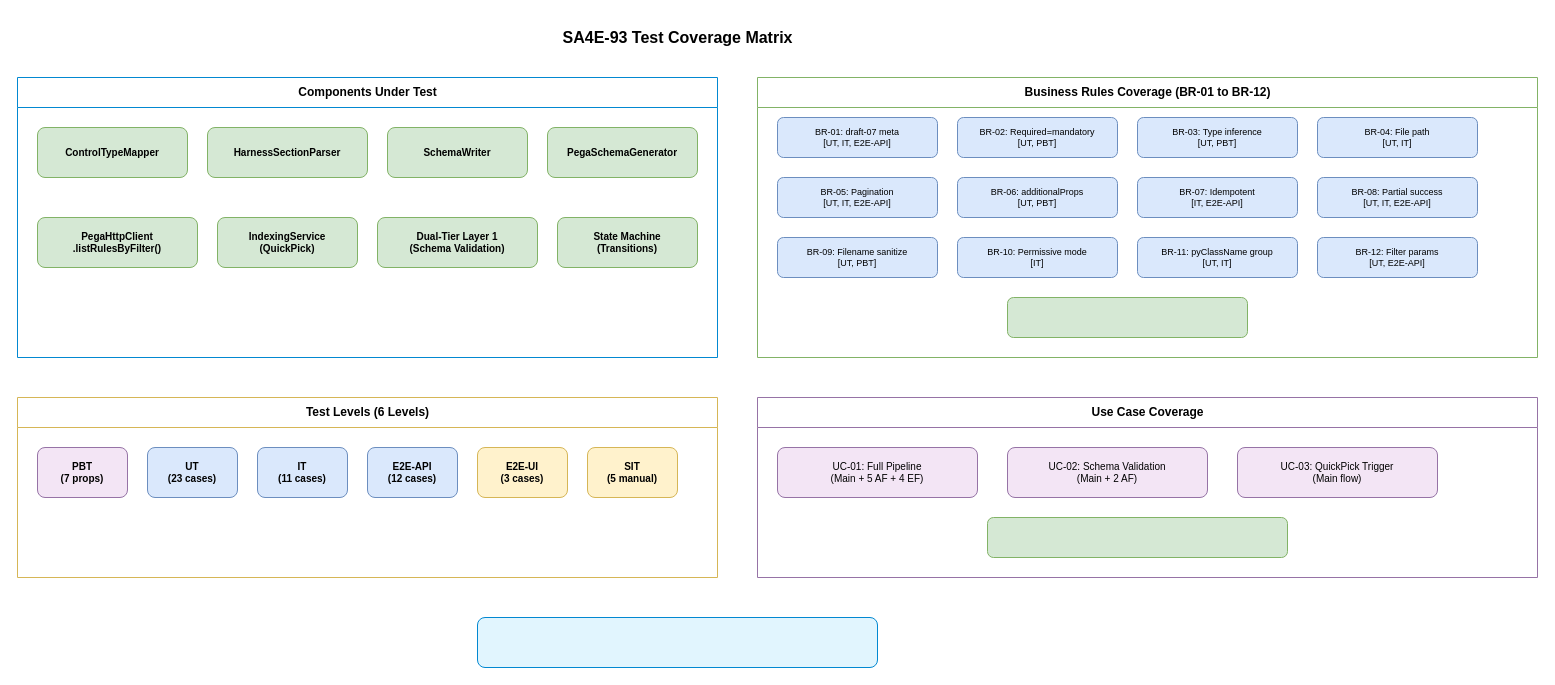
The diagram is 1555 pixels wide and 685 high, and some of its shapes have lost their labels. The shapes that lost their labels are listed below. From the top down, each one's centre as x and y in pixels, then its label:
point 1127,317: Coverage: 12/12 BR = 100%
point 1137,537: Coverage: 3/3 UC + 7 AF + 4 EF = 100%
point 677,642: Total: 61 Automated + 5 Manual = 66 Test Cases
